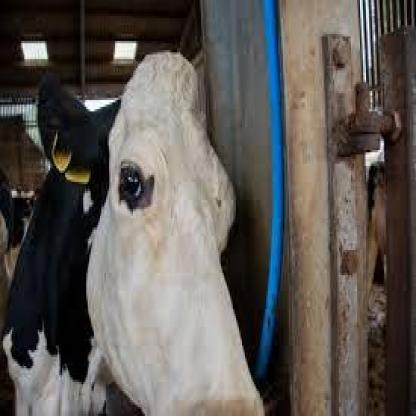cow: (0, 54, 263, 416)
